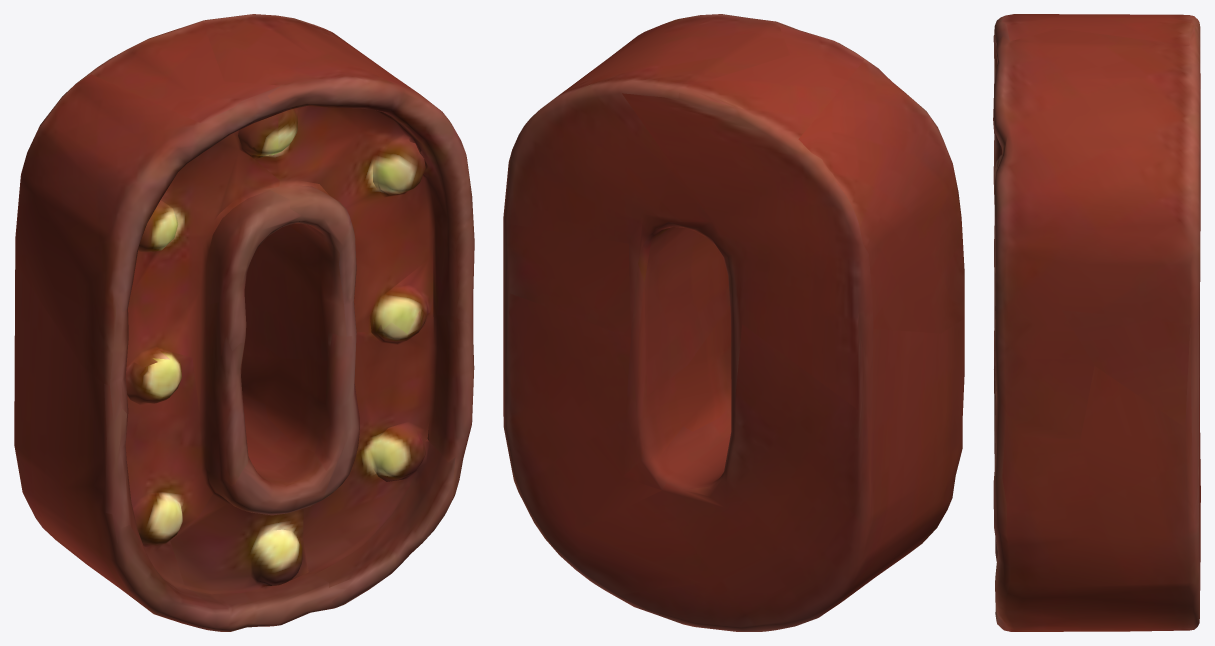
Rendered from digit_0_idle.glb.
3 views of the same model, side by side, from view 1: azimuth 30°, elevation 25°; view 2: azimuth 150°, elevation 25°; view 3: azimuth 270°, elevation 25° (orthographic). The views are drawn at different scales.
Visible parts, largest first — view 1: tmp_letters_u_z_0_3_04; view 2: tmp_letters_u_z_0_3_04; view 3: tmp_letters_u_z_0_3_04.
Boxes of the visible parts, bbox=[...] form: tmp_letters_u_z_0_3_04: bbox=[14, 14, 474, 631]; tmp_letters_u_z_0_3_04: bbox=[503, 14, 964, 631]; tmp_letters_u_z_0_3_04: bbox=[993, 14, 1200, 631].
Bounding box in the file's own units: 0.714 × 0.988 × 0.3319.
Materials: 1 (1 with a texture image).
